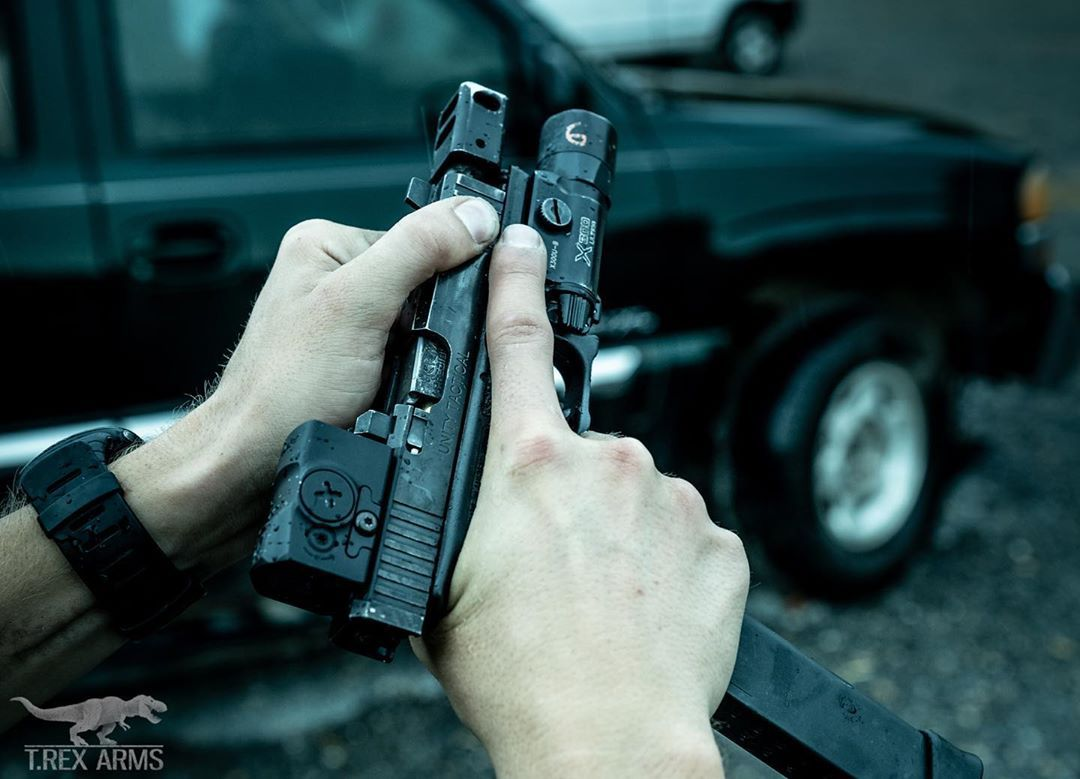gun: (248, 75, 992, 778)
